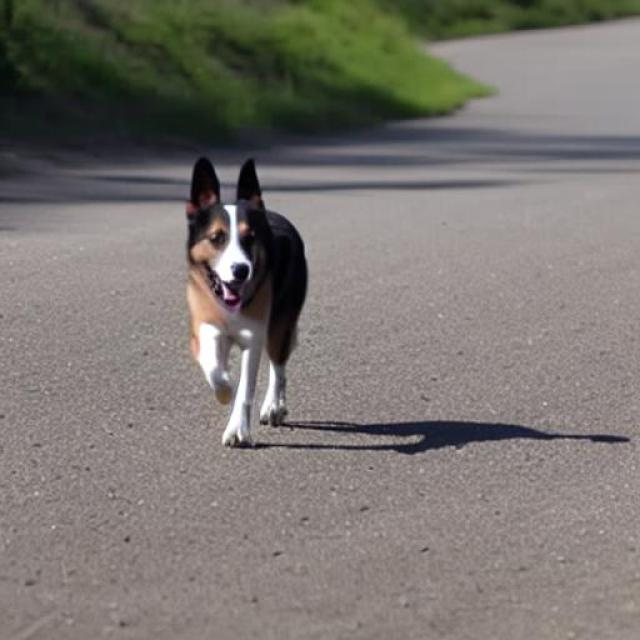Dog: (185, 156, 309, 448)
